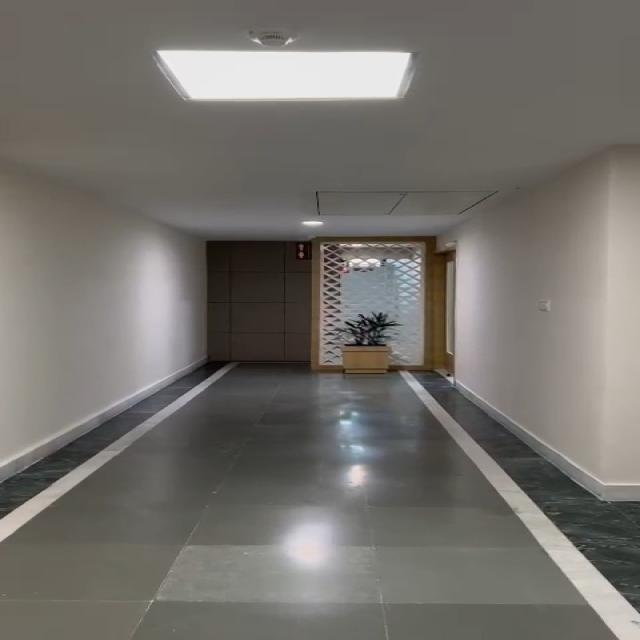door: (211, 240, 445, 374)
floor: (133, 389, 466, 640)
furniture: (344, 308, 388, 368)
wall: (6, 1, 225, 434), (473, 36, 637, 461)
